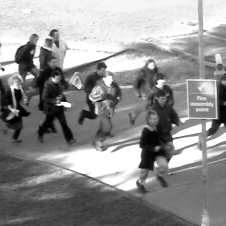person: (38, 72, 77, 144), (88, 72, 121, 152), (138, 109, 169, 194), (148, 91, 178, 173), (129, 60, 164, 129), (78, 62, 112, 126), (199, 71, 226, 151), (39, 57, 67, 134), (37, 38, 60, 111), (5, 73, 27, 144), (149, 74, 179, 126), (17, 34, 39, 103), (49, 26, 66, 81)
